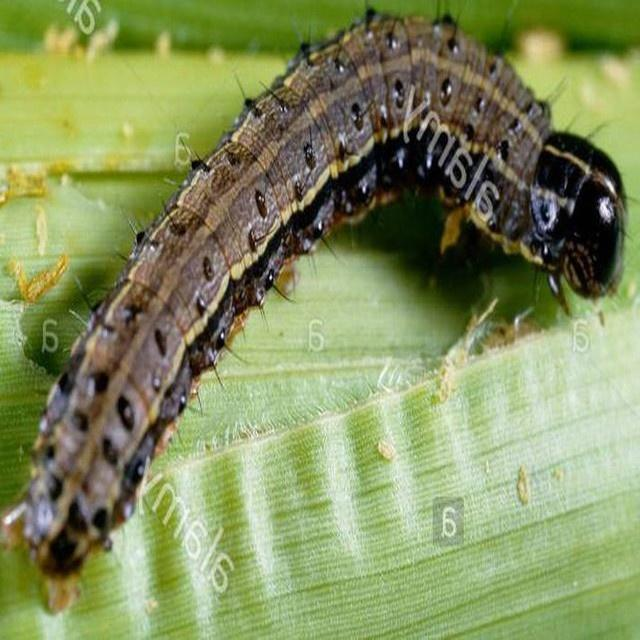worm: (1, 1, 635, 616)
